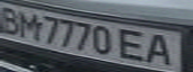0: (90, 24, 118, 56)
7: (72, 20, 93, 53), (54, 17, 75, 50), (39, 14, 60, 45)
A: (142, 32, 181, 68)
B: (0, 3, 24, 35)
E: (115, 27, 151, 63)
M: (15, 10, 45, 40)
